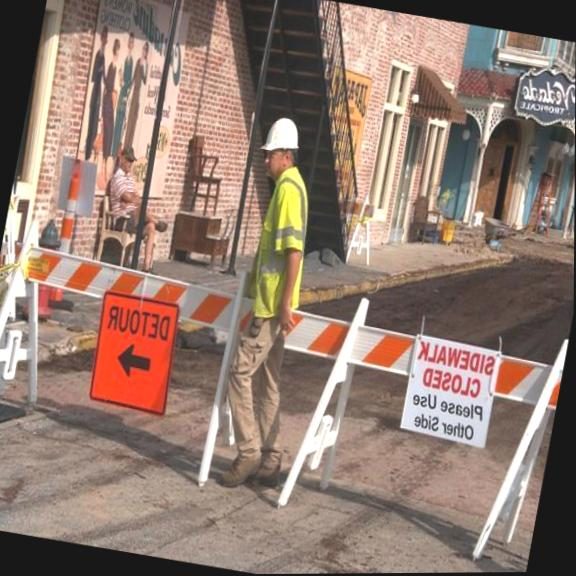safety_vest: (241, 157, 325, 328)
